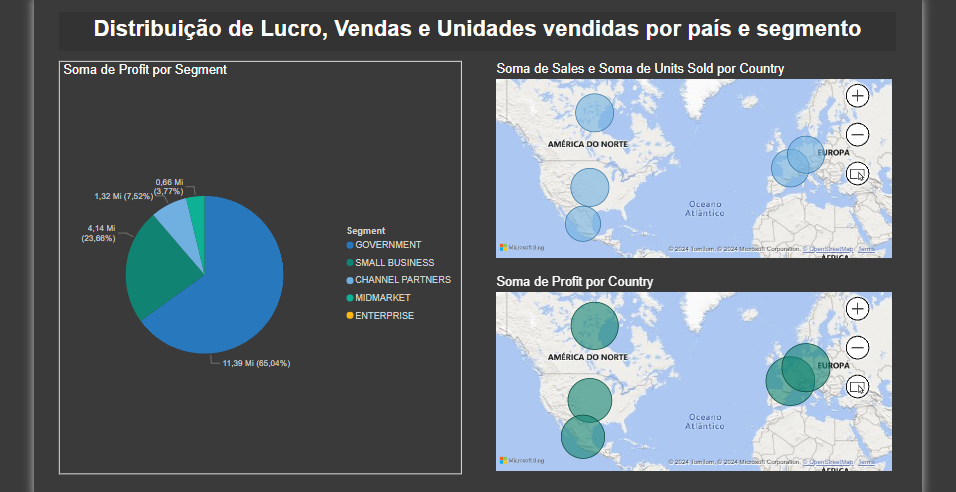

The page's visual inventory and layout, read from the dashboard file:
{"tool":"powerbi","page":{"name":"Página 3","canvas":[1280,720],"ordinal":2},"visuals":[{"type":"textbox","box":[36,21.6,1205.3,56.2],"z":0},{"type":"pieChart","fields":{"Y":["Sum(financials.Profit)"],"Category":["financials.Segment"]},"box":[36,92.2,580.3,594.7],"z":1000},{"type":"map","fields":{"Category":["financials.Country"],"Size":["Sum(financials. Sales)"]},"box":[661,92.2,580.3,288],"z":2000},{"type":"map","fields":{"Category":["financials.Country"],"Size":["Sum(financials.Profit)"]},"box":[661,398.9,580.3,288],"z":3000}]}

Visuals, with their boxes on the page's 1280x720 design canvas (x1, y1, x2, y2). These are canvas units, not pixel positions in the 956x492 screenshot, which may show the page scaled, cropped or inside an application window:
textbox: (left=36, top=22, right=1241, bottom=78)
pieChart - Sum(financials.Profit) x financials.Segment: (left=36, top=92, right=616, bottom=687)
map - financials.Country x Sum(financials. Sales): (left=661, top=92, right=1241, bottom=380)
map - financials.Country x Sum(financials.Profit): (left=661, top=399, right=1241, bottom=687)
